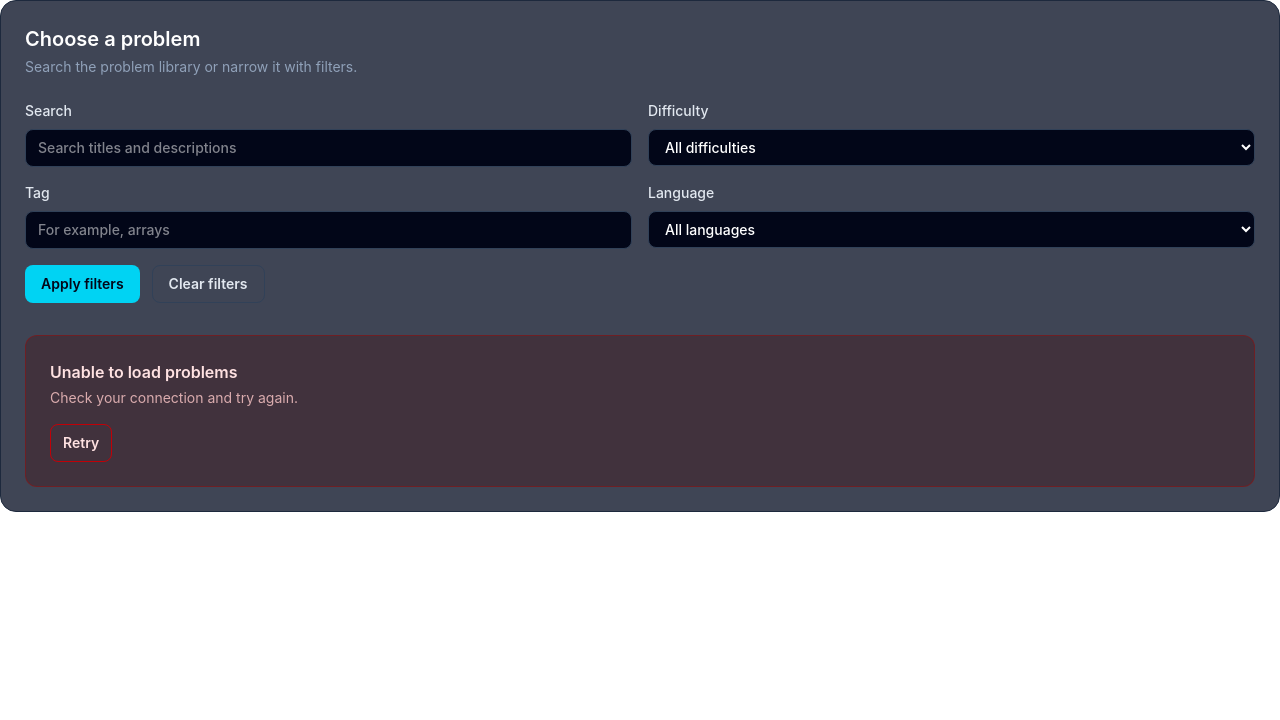
Scenario: ProblemSelector › shows a safe failure state and retries
Expected: the message shows "Unable to load problems", [50,362,238,382]
Click the button "Retry". click: (81, 443)
box: [50,424,112,462]
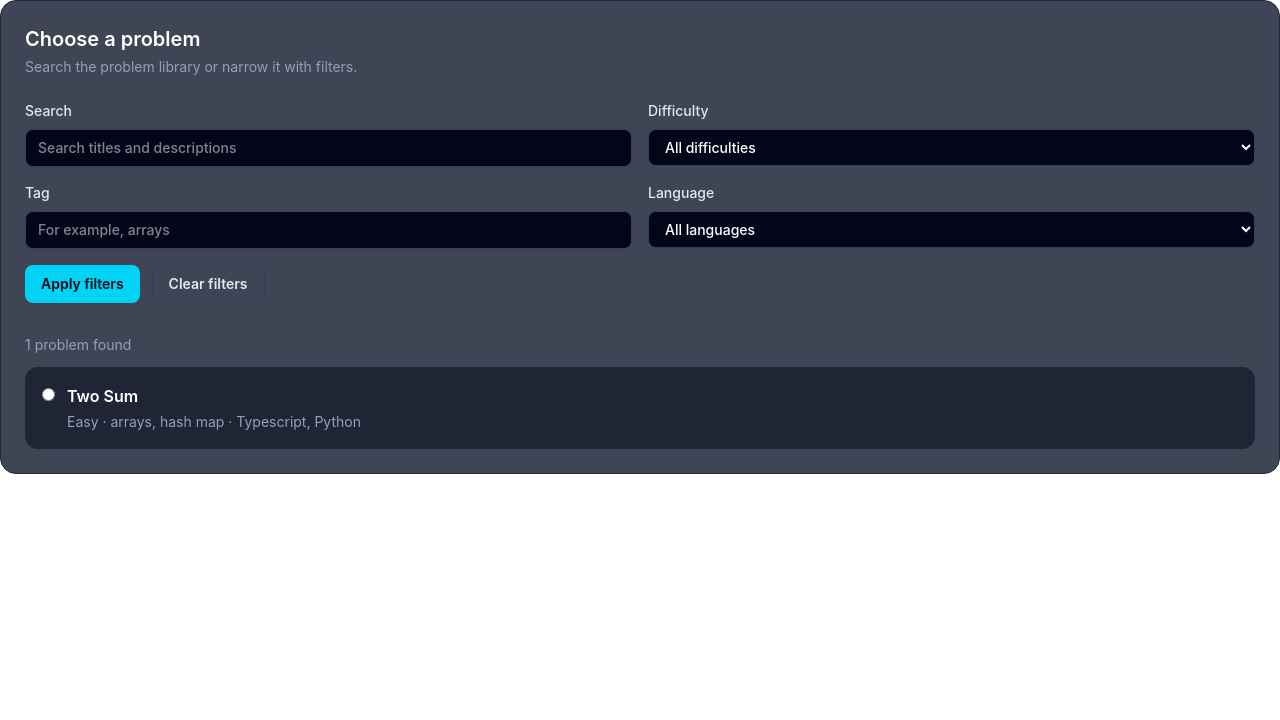
Expected: the radio button labelled "Two Sum Easy · arrays, hash map · Typescript, Python" is shown, [42,388,55,401]
